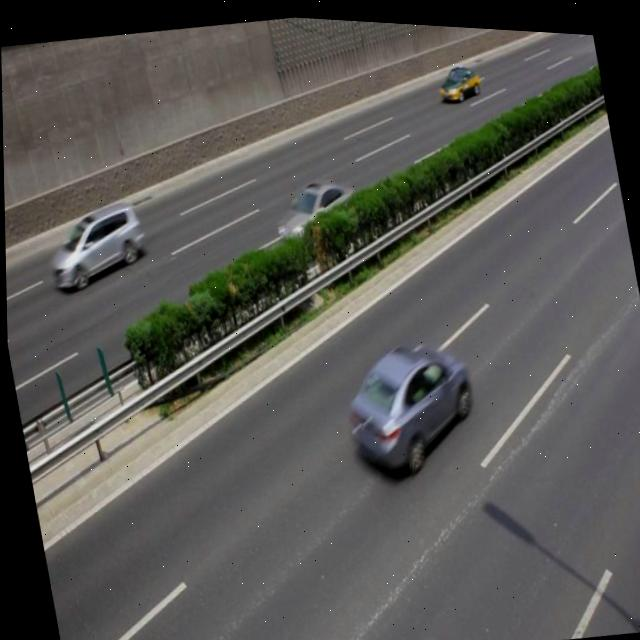car: (332, 329, 484, 480), (40, 196, 151, 294), (267, 167, 365, 258), (435, 58, 481, 102)
